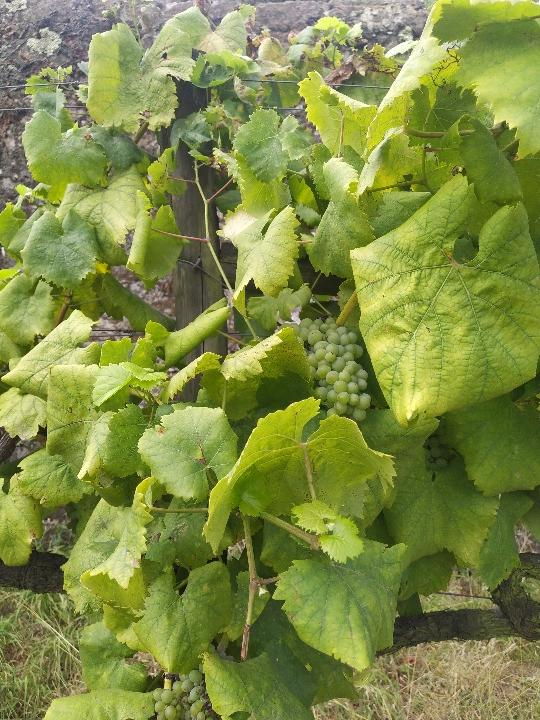grape: (299, 317, 373, 423)
